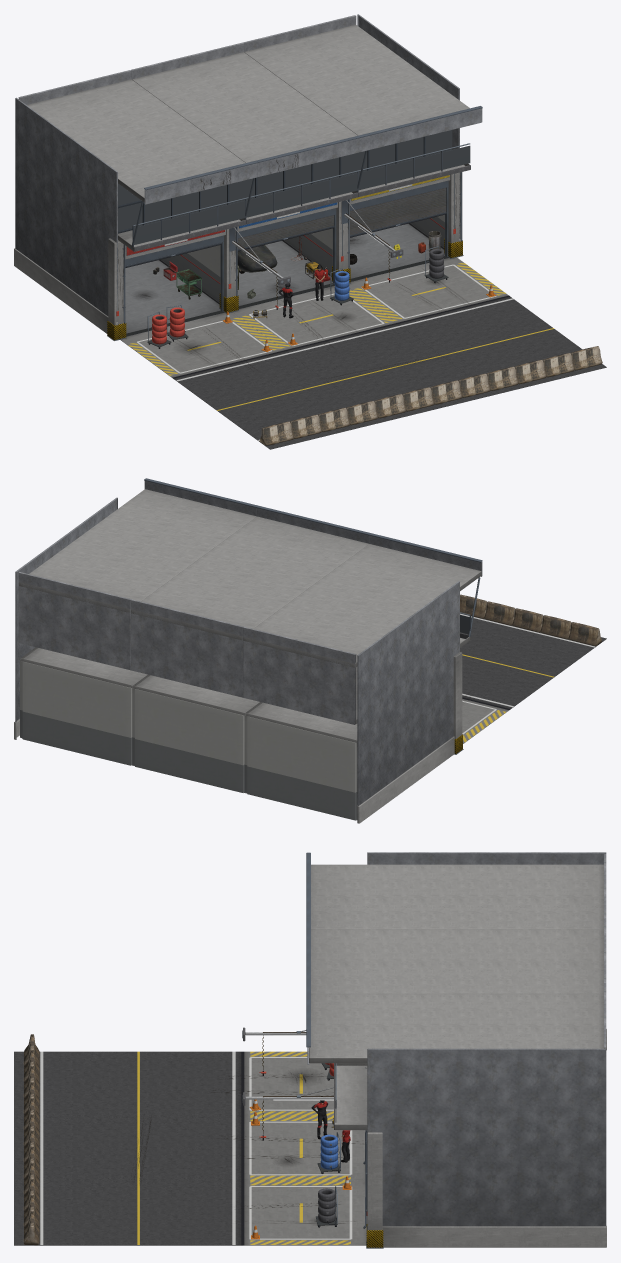
File: garage_scene_people.glb
3 views of the same model, one above another, from view 1: azimuth 30°, elevation 25°; view 2: azimuth 150°, elevation 25°; view 3: azimuth 270°, elevation 25° (orthographic). The views are drawn at different scales.
Parts seen in each view (by area): view 1: garage_upper.003, garage_upper.002, garage_upper.001, garage_end_l.001, garage_apron.003, garage_apron.001, garage_apron.002, garage_bay.001, garage_bay.002, garage_bay.003, garage_end_r.001, garage_door_c.001 (+9 smaller); view 2: garage_upper.001, garage_upper.003, garage_upper.002, garage_end_l.001, garage_bay.001, garage_bay.002, garage_bay.003, garage_apron.001, garage_end_r.001, garage_apron_decals.001, prop_concrete_road_barrier.001, prop_concrete_road_barrier.004 (+3 smaller); view 3: garage_end_r.001, garage_apron.003, garage_upper.003, garage_upper.002, garage_apron.002, garage_upper.001, garage_apron.001, garage_end_l.001, garage_apron_decals.003, garage_apron_decals.002, garage_apron_decals.001, garage_tyres_black.001 (+2 smaller).
Boxes of the visible parts, box(x1,y1,x2,y2) form: garage_upper.003: box(243, 15, 482, 196); garage_upper.002: box(131, 42, 370, 224); garage_upper.001: box(18, 70, 257, 251); garage_end_l.001: box(14, 97, 118, 333); garage_apron.003: box(349, 257, 606, 394); garage_apron.001: box(120, 312, 381, 449); garage_apron.002: box(233, 286, 494, 422); garage_bay.001: box(107, 229, 225, 340); garage_bay.002: box(159, 202, 338, 313); garage_bay.003: box(282, 175, 450, 283); garage_end_r.001: box(357, 14, 463, 258); garage_door_c.001: box(350, 187, 446, 237); garage_upper.001: box(243, 533, 482, 724); garage_upper.003: box(18, 478, 257, 670); garage_upper.002: box(131, 505, 369, 697); garage_end_l.001: box(357, 581, 459, 823); garage_bay.001: box(245, 652, 463, 820); garage_bay.002: box(133, 674, 260, 793); garage_bay.003: box(20, 647, 149, 765); garage_apron.001: box(460, 619, 606, 743); garage_end_r.001: box(14, 497, 117, 739); garage_apron_decals.001: box(462, 619, 595, 742); prop_concrete_road_barrier.001: box(568, 622, 601, 646); prop_concrete_road_barrier.004: box(484, 601, 514, 625); garage_end_r.001: box(363, 1048, 606, 1248); garage_apron.003: box(14, 1180, 367, 1245); garage_upper.003: box(306, 981, 606, 1130); garage_upper.002: box(306, 917, 606, 1065); garage_apron.002: box(14, 1116, 365, 1180); garage_upper.001: box(306, 852, 606, 928); garage_apron.001: box(14, 1051, 333, 1116); garage_end_l.001: box(367, 852, 606, 1050); garage_apron_decals.003: box(40, 1180, 352, 1244); garage_apron_decals.002: box(40, 1116, 352, 1180); garage_apron_decals.001: box(40, 1051, 333, 1116); garage_tyres_black.001: box(316, 1186, 337, 1227).
Size of the model in its own units: 18.68 by 8.66 by 23.32.
66 materials, 63 textured.
